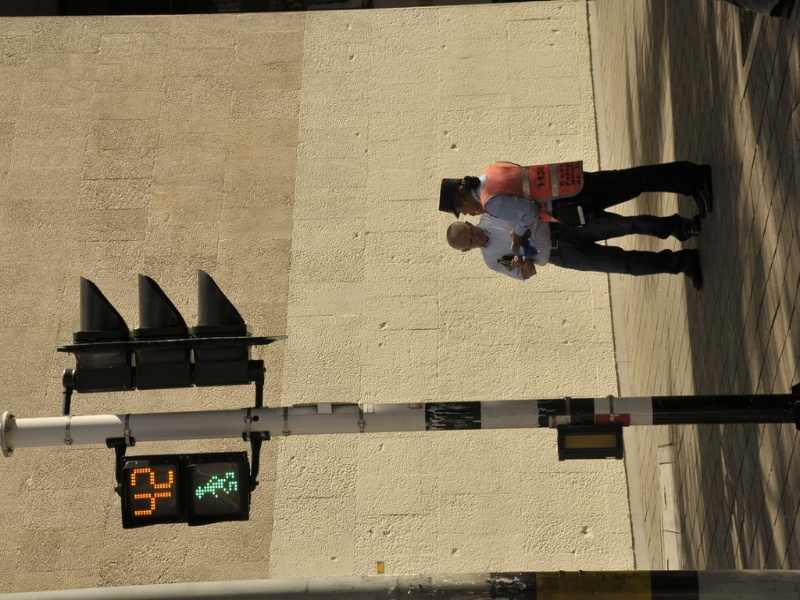pedestrian_crossing_green: (183, 457, 251, 521)
